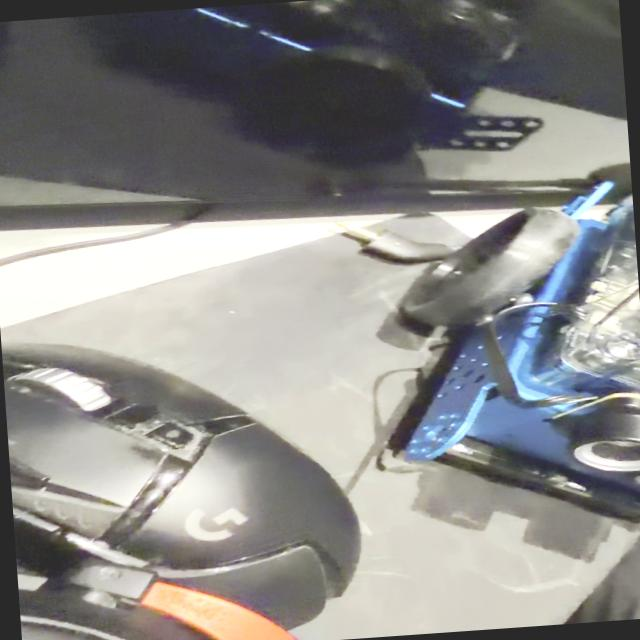mbot-detection: (339, 172, 640, 550)
